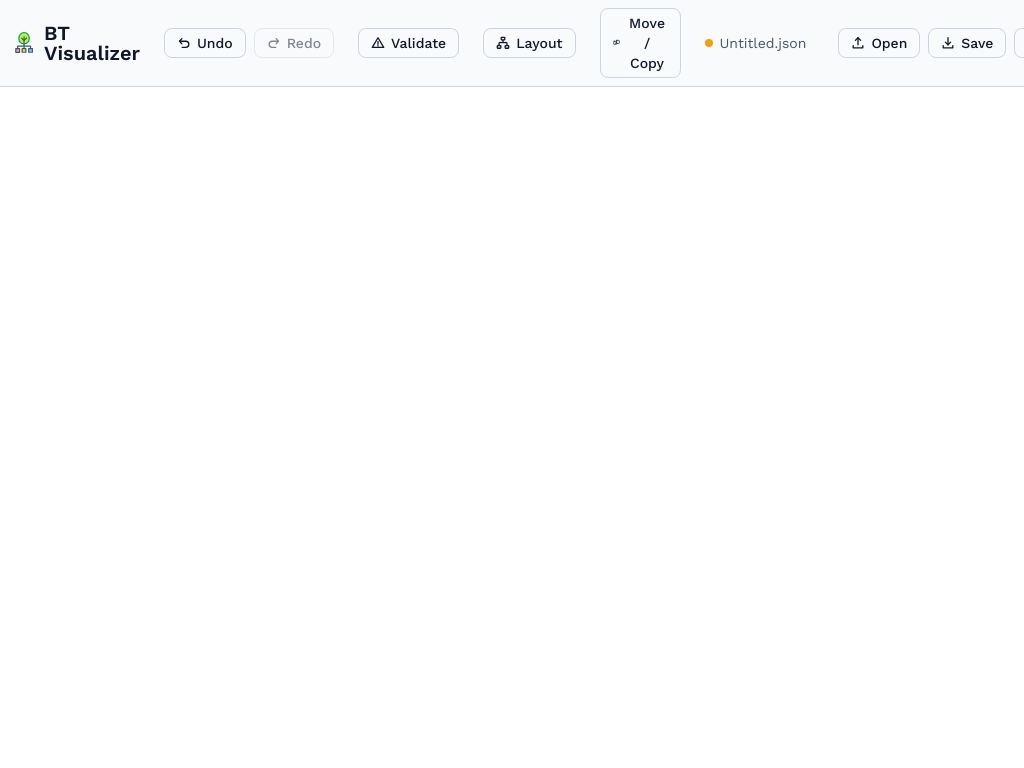
Test: Toolbar › Move/Copy enables with a selection + 2 trees and opens the modal
Click the button with aria-label "move or copy selection": (640, 43) [600, 8, 682, 78]
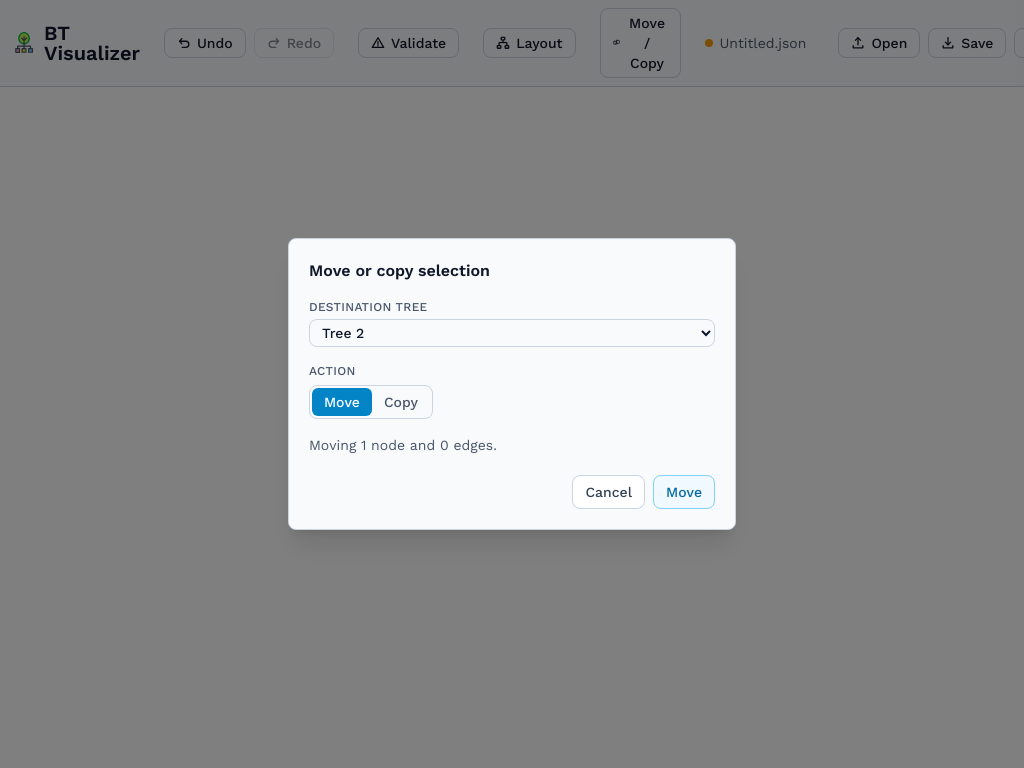
Expected: the dialog is shown
